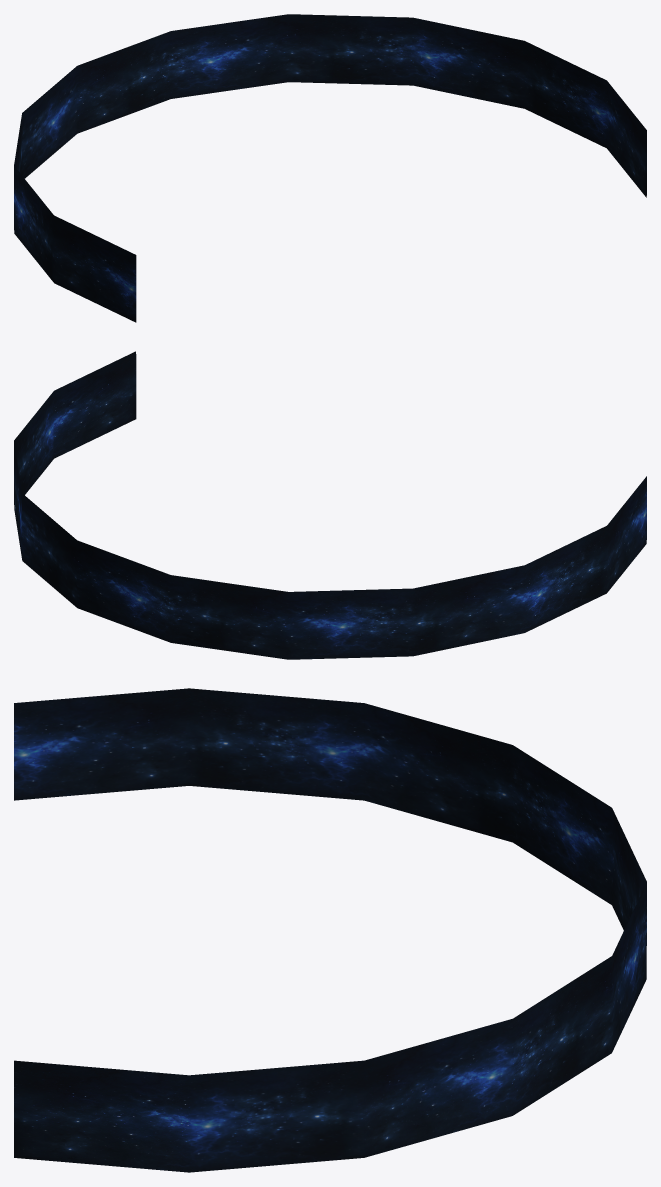
File: ts_zjmtk001.FBX
3 renders of one model, top to bottom at view 1: azimuth 30°, elevation 25°; view 2: azimuth 150°, elevation 25°; view 3: azimuth 270°, elevation 25°, orthographic. The views are drawn at different scales.
Visible parts, largest first — view 1: ts_zjmtk001; view 2: ts_zjmtk001; view 3: ts_zjmtk001.
Boxes of the visible parts, <box> form: ts_zjmtk001: <box>14,14,646,322</box>; ts_zjmtk001: <box>14,351,646,659</box>; ts_zjmtk001: <box>14,688,646,1172</box>.
Size of the model in its own units: 43.19 by 5.07 by 29.86.
